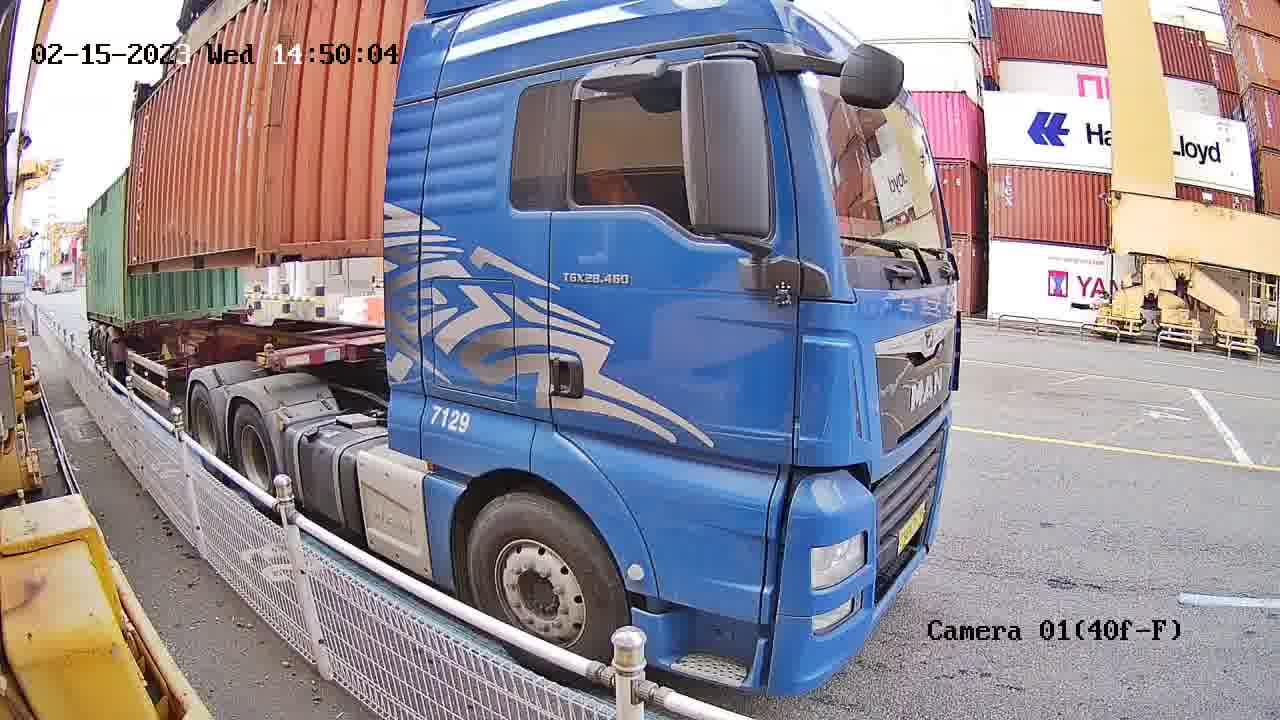Chassis: (283, 340, 384, 371)
Cone: (255, 342, 280, 370)
Hole_L: (261, 214, 314, 267)
Hole_R: (228, 218, 268, 268)
Tire: (467, 497, 628, 659), (233, 403, 277, 490), (188, 390, 224, 458)
